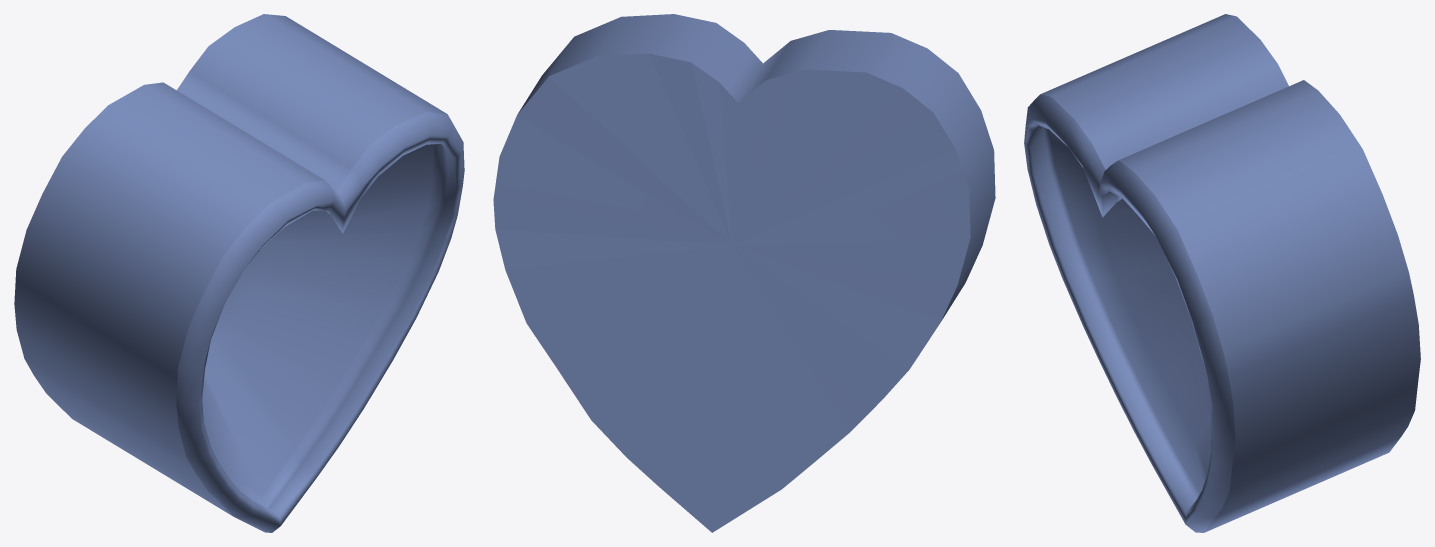
Rendered from BR2_8shapes_heart_Classic_Metal.001 2.glb.
The picture shows the model from 3 angles, left to right: view 1: azimuth 30°, elevation 25°; view 2: azimuth 150°, elevation 25°; view 3: azimuth 270°, elevation 25°; orthographic projection. The views are drawn at different scales.
Visible parts, largest first — view 1: BR2_8shapes_heart_Classic_Metal.001; view 2: BR2_8shapes_heart_Classic_Metal.001; view 3: BR2_8shapes_heart_Classic_Metal.001.
Part boxes in pixels (x1,y1,x2,y2): BR2_8shapes_heart_Classic_Metal.001: (14, 14, 464, 532); BR2_8shapes_heart_Classic_Metal.001: (493, 14, 995, 532); BR2_8shapes_heart_Classic_Metal.001: (1024, 14, 1420, 532).
Bounding box in the file's own units: 0.5106 × 0.511 × 0.4033.
